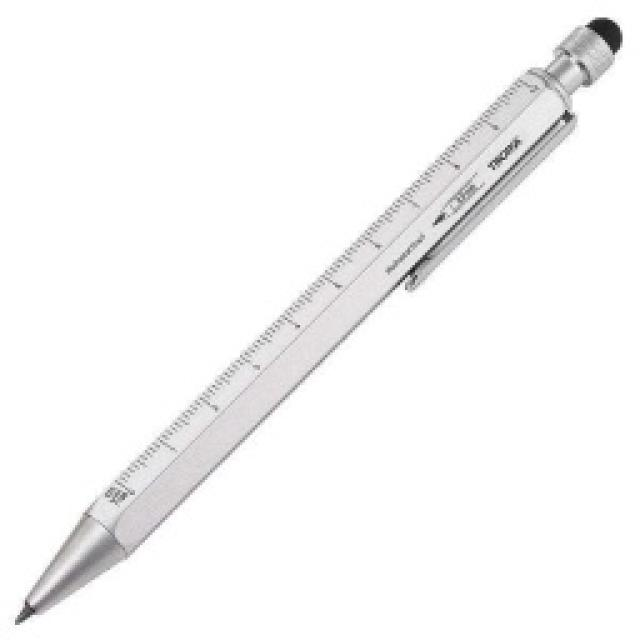pencil: (7, 10, 625, 628)
